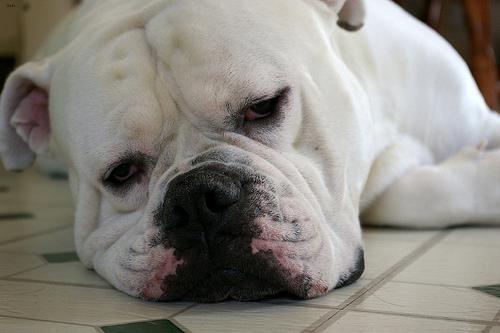dog-american_bulldog: (0, 0, 366, 302)
